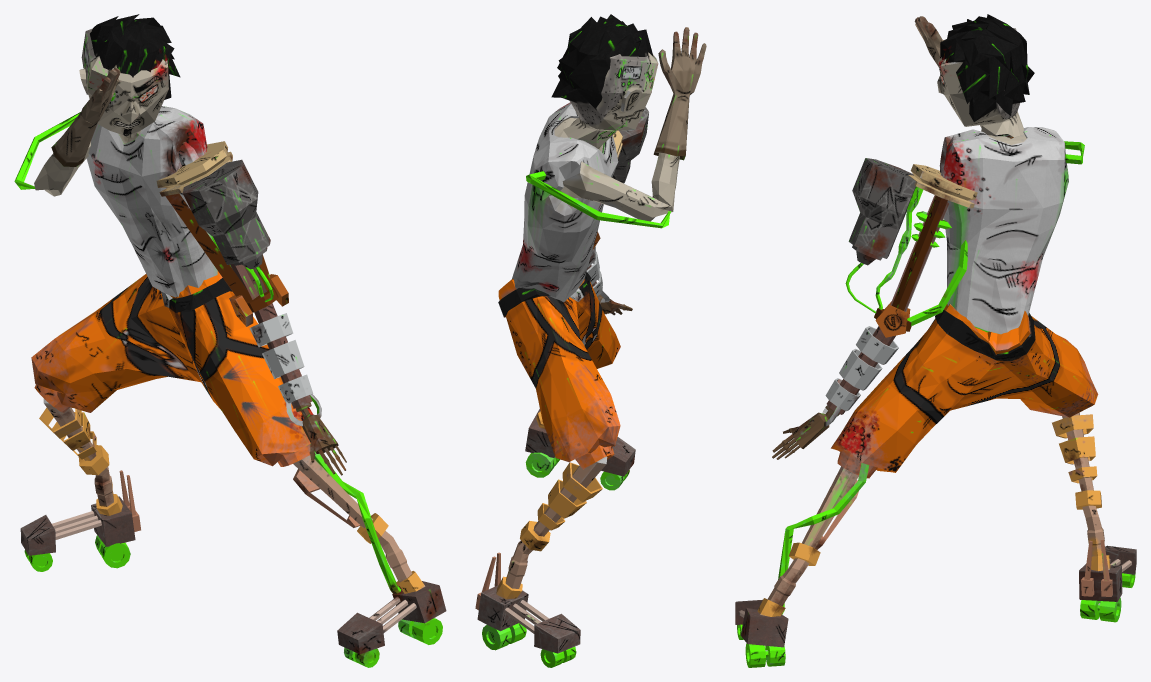
File: CyborgFINALAnimation_000080.obj
The picture shows the model from 3 angles, left to right: view 1: azimuth 30°, elevation 25°; view 2: azimuth 150°, elevation 25°; view 3: azimuth 270°, elevation 25°; orthographic projection. The views are drawn at different scales.
Parts seen in each view (by area): view 1: CyborgMesh_Cube.002; view 2: CyborgMesh_Cube.002; view 3: CyborgMesh_Cube.002.
Part boxes in pixels (bbox=[...]): CyborgMesh_Cube.002: bbox=[14, 14, 446, 667]; CyborgMesh_Cube.002: bbox=[475, 14, 706, 667]; CyborgMesh_Cube.002: bbox=[735, 14, 1136, 667].
Size of the model in its own units: 4.21 by 8.63 by 5.44.
